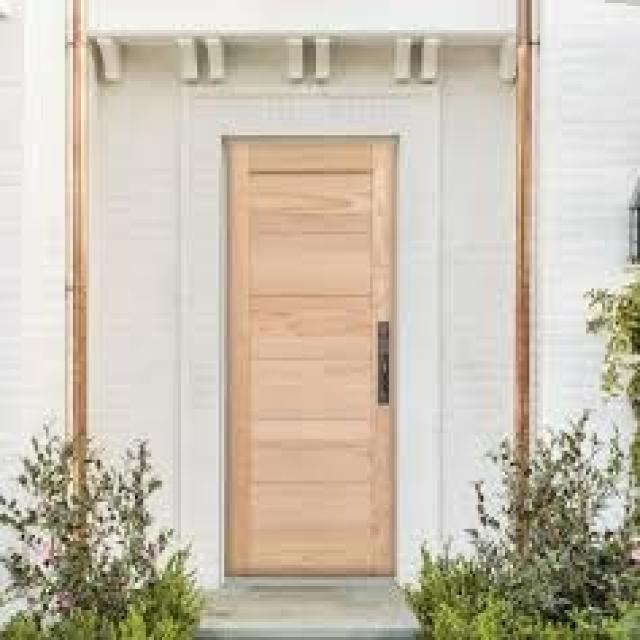door: (221, 135, 397, 580)
